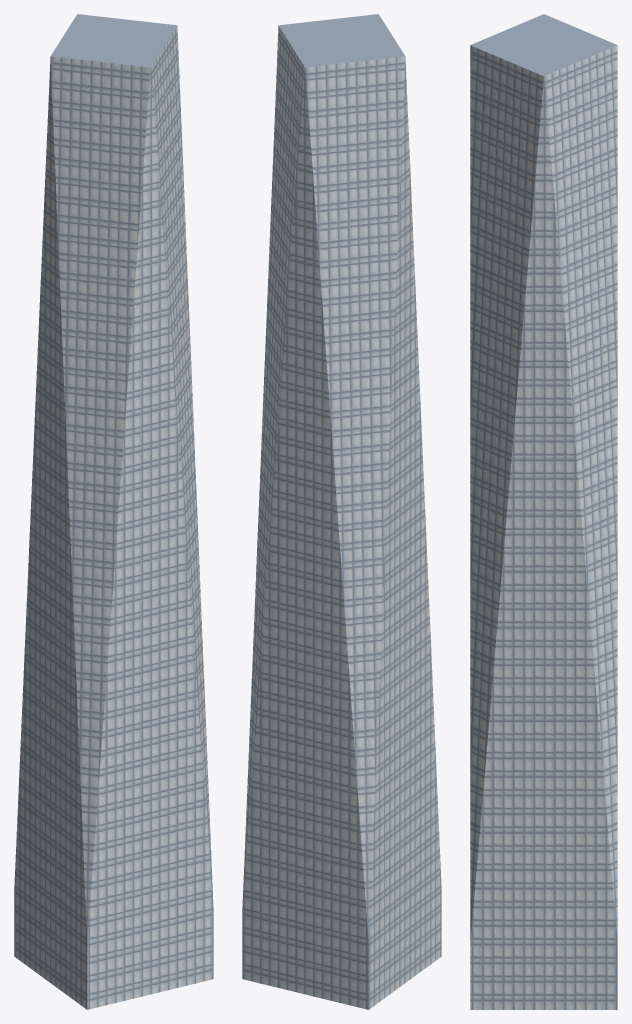
The model's file is NyBuild_05.fbx.
3 views of the same model, side by side, from view 1: azimuth 30°, elevation 25°; view 2: azimuth 150°, elevation 25°; view 3: azimuth 270°, elevation 25° (orthographic).
Visible parts, largest first — view 1: Плоскость; view 2: Плоскость; view 3: Плоскость.
Boxes of the visible parts, x1,y1,x2,y2 form: Плоскость: (14, 14, 213, 1009); Плоскость: (242, 14, 441, 1009); Плоскость: (470, 14, 617, 1009).
Size of the model in its own units: 201 by 1401 by 201.
Materials: 1 (1 with a texture image).
